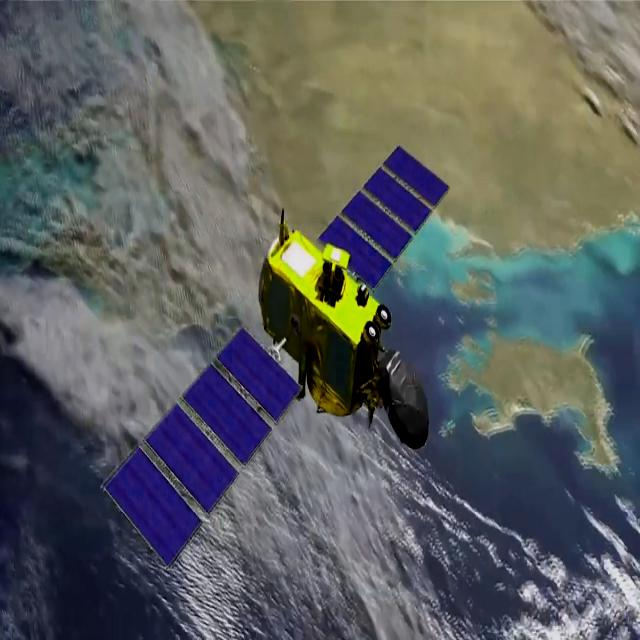satellite: (115, 122, 468, 549)
